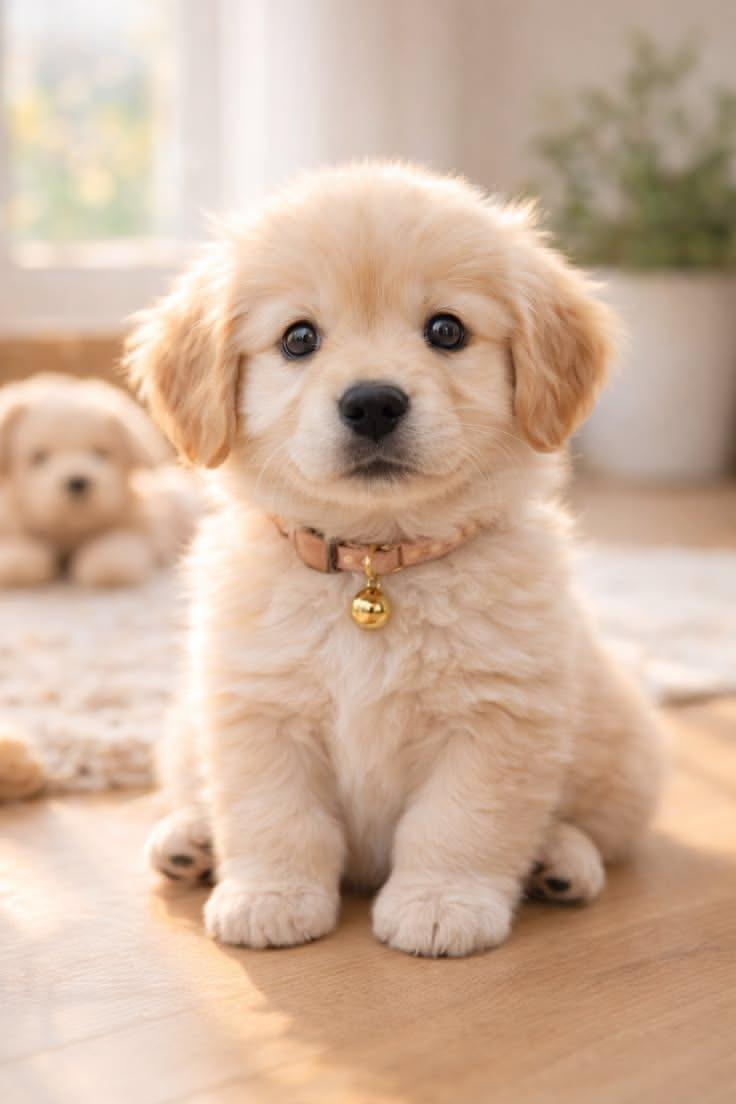non-dog: (0, 375, 211, 590)
puppy-dog: (118, 157, 673, 960)
